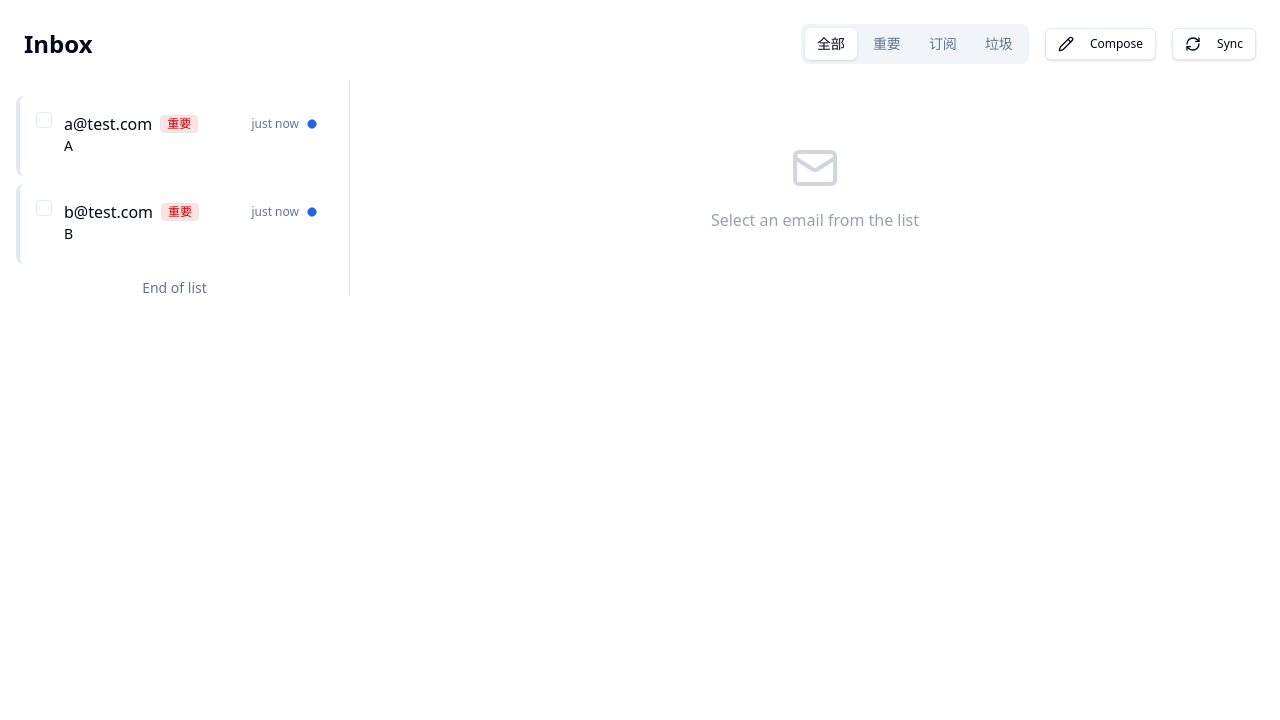
InboxPage › Selection Counter › should show selection count when emails are selected
expect the text "A" is shown: met, box [64, 136, 73, 155]
// Select first email by clicking the checkbox (not the card body)
Click the 1st checkbox.
click(44, 120)  # box [36, 112, 52, 128]
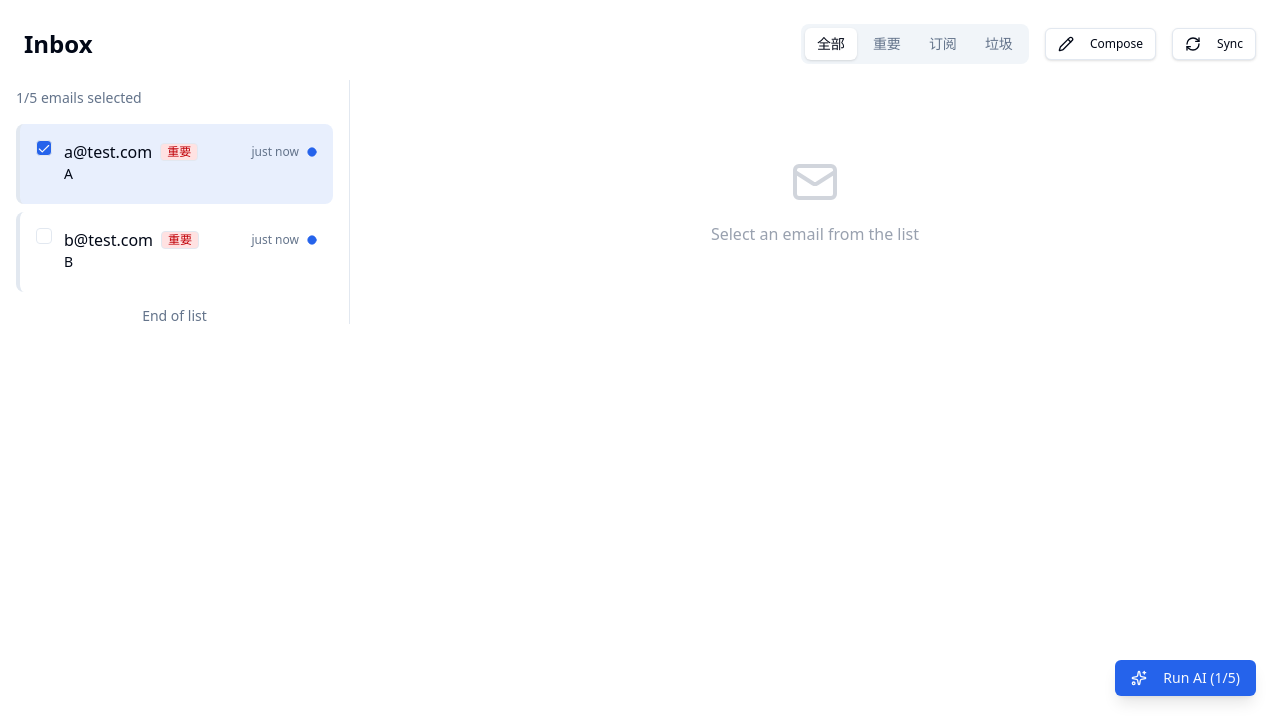
expect the text "1/5 emails selected" is shown: met, box [16, 88, 142, 107]
